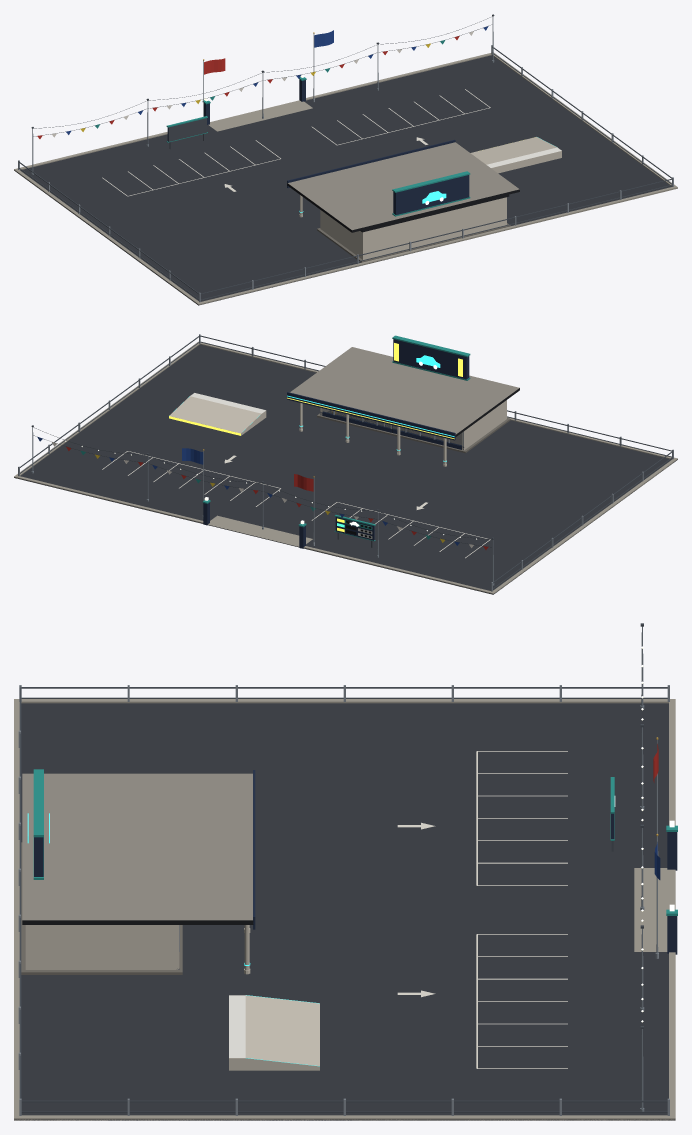
Rendered from dealer_lot.glb.
The picture shows the model from 3 angles, top to bottom: view 1: azimuth 30°, elevation 25°; view 2: azimuth 150°, elevation 25°; view 3: azimuth 270°, elevation 25°; orthographic projection. The views are drawn at different scales.
Parts seen in each view (by area): view 1: Body; view 2: Body; view 3: Body.
Boxes of the visible parts, x1,y1,x2,y2 form: Body: (14, 14, 677, 305); Body: (14, 334, 677, 594); Body: (14, 623, 677, 1120).
Size of what is drawn, in the model's own units: 60 by 8.37 by 40.15.
